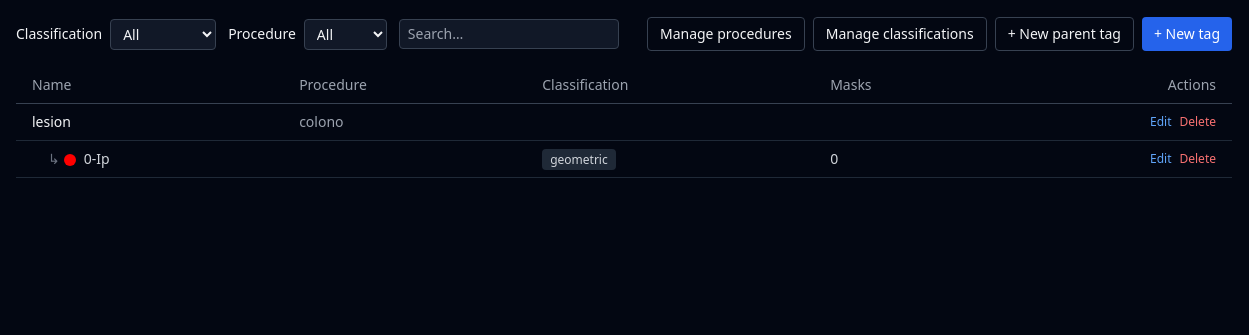
Test: TagsPage › toggles the classifications panel when 'Manage classifications' is clicked
Check: the text "0-Ip" is shown, box [84,149,110,168]
Click the button "Manage classifications" at x=900, y=34, box [813,17,987,51]
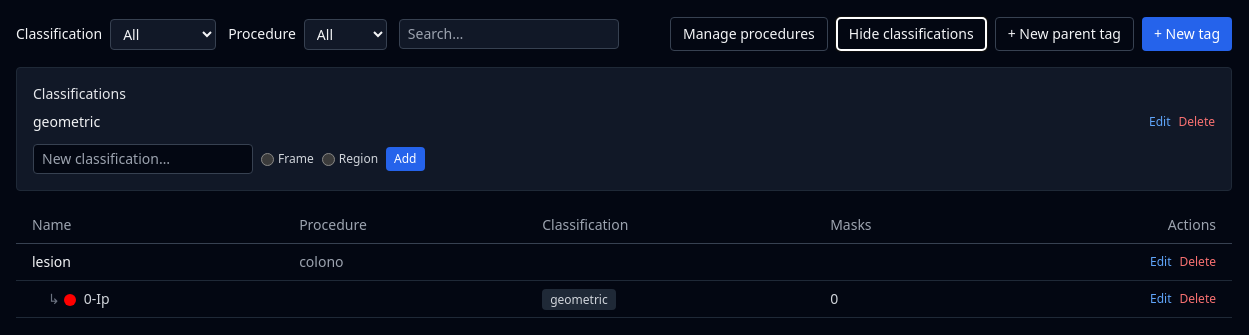
Check: the heading "Classifications" is shown, box [33,84,126,103]
